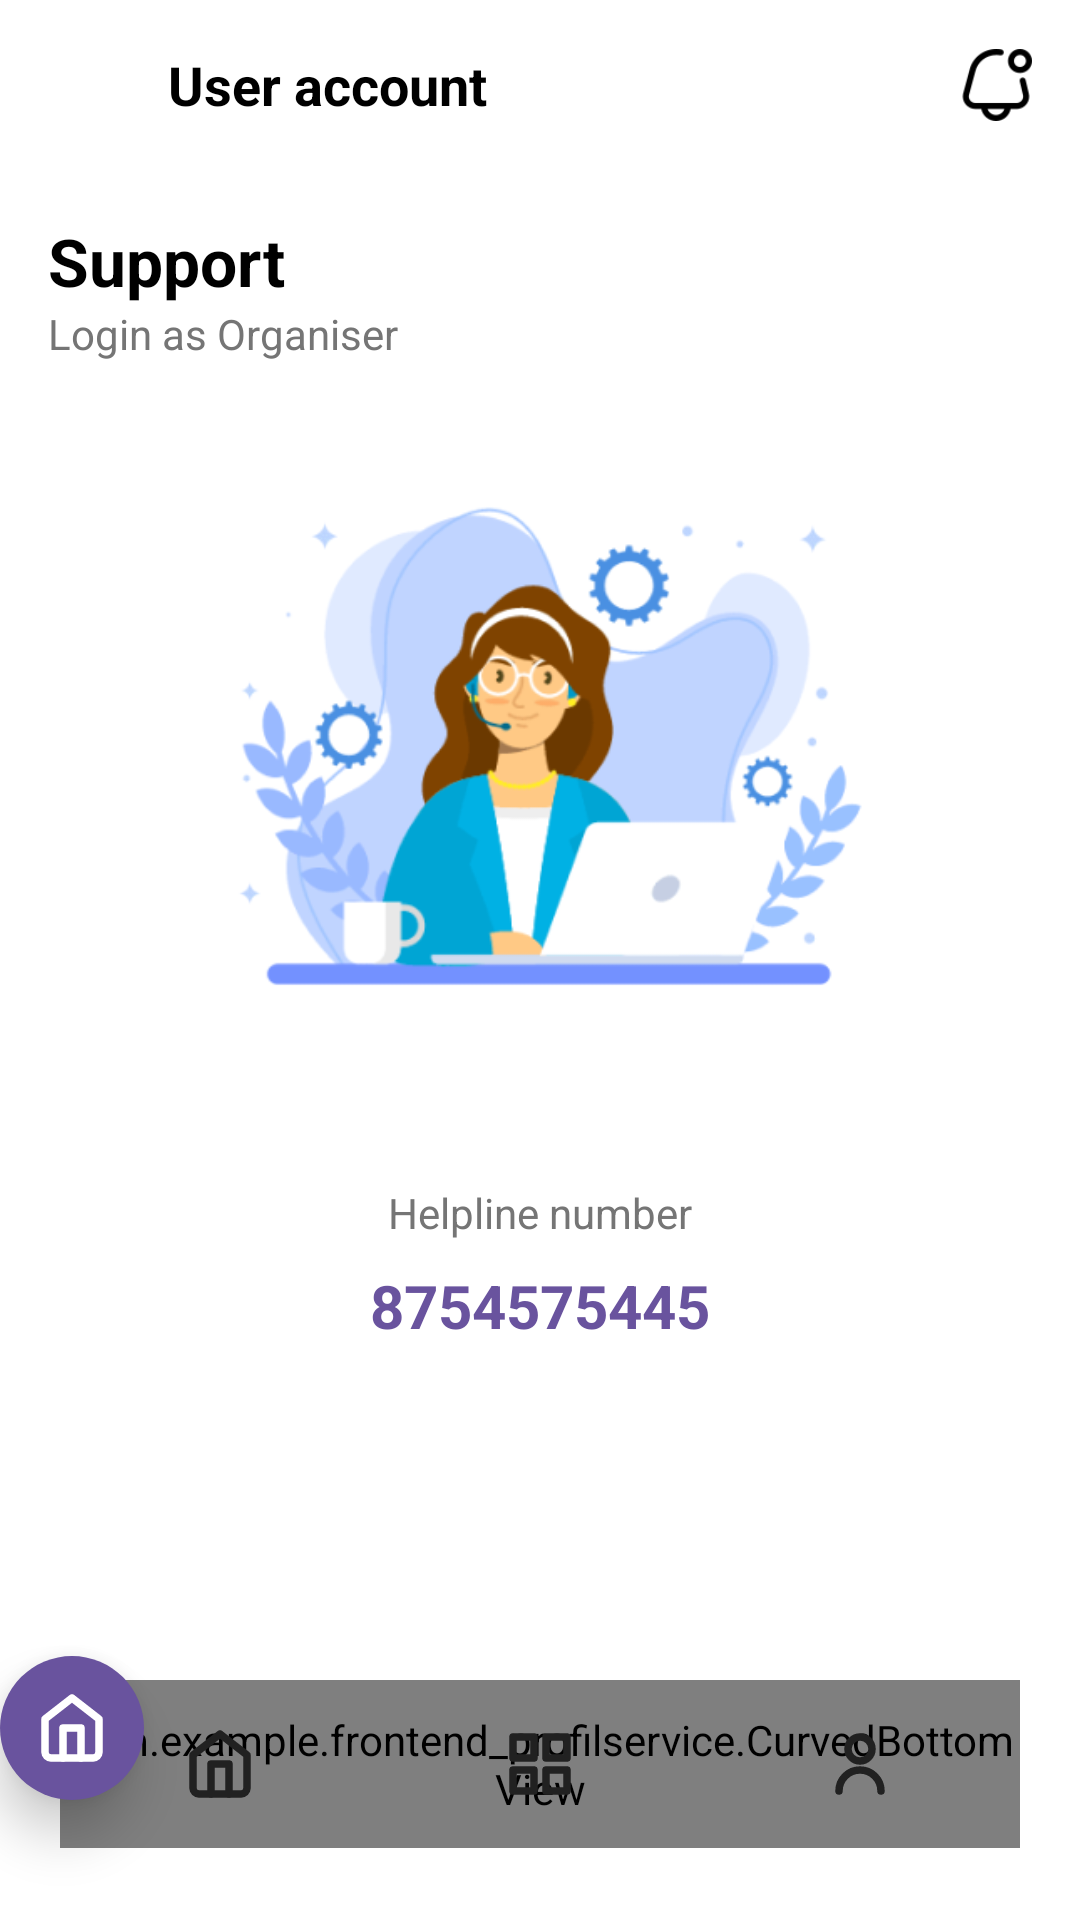

Where icons sit on this 1080x1920 app screen, as (x1,y1,x2,y2):
dashboard: (504,1728,576,1800)
home: (41,1694,103,1762), (184,1730,256,1798)
notification: (962,49,1032,121)
profile: (832,1728,896,1795)
